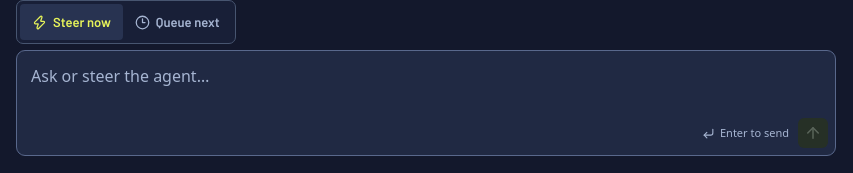
Test: Composer character counter › shows character count when typing Hello -> 5 / 8,000
Type "Hello" into the text box labelled "Ask or steer the agent…" at (426, 84), box [17,51,835,116]
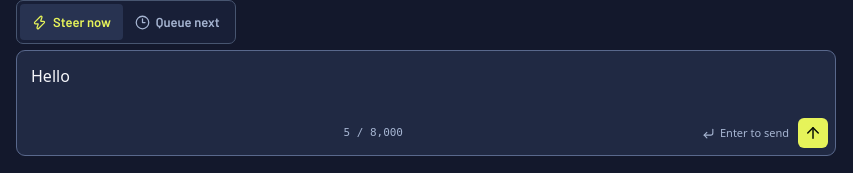
Expected: the text with id "composer-char-count" reads "5 / 8,000", [343,126,403,139]
